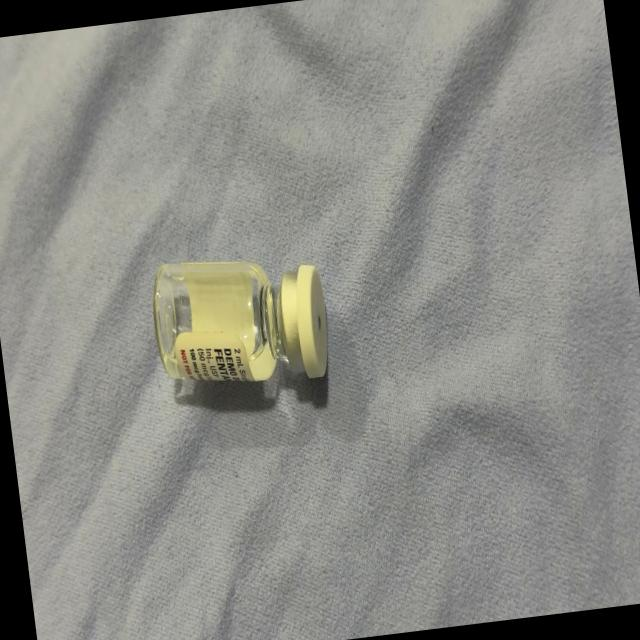fentanl_citrat: (150, 247, 331, 401)
